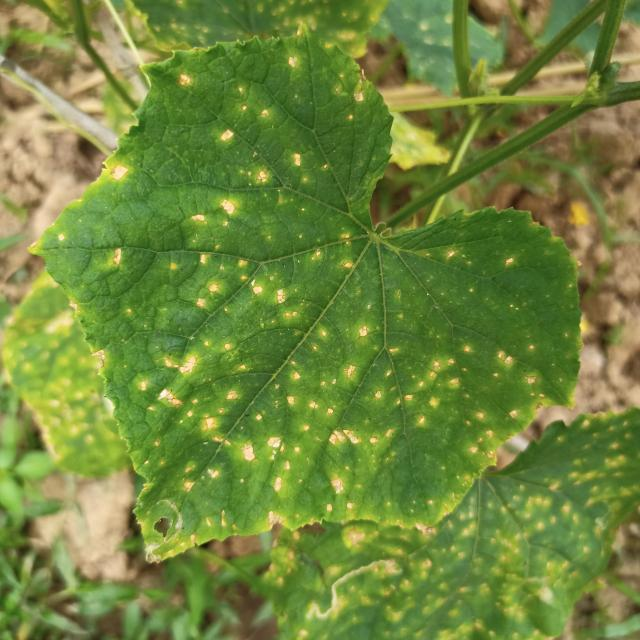disease_cucumber: (50, 241, 575, 526), (173, 49, 368, 245), (99, 155, 136, 190)
